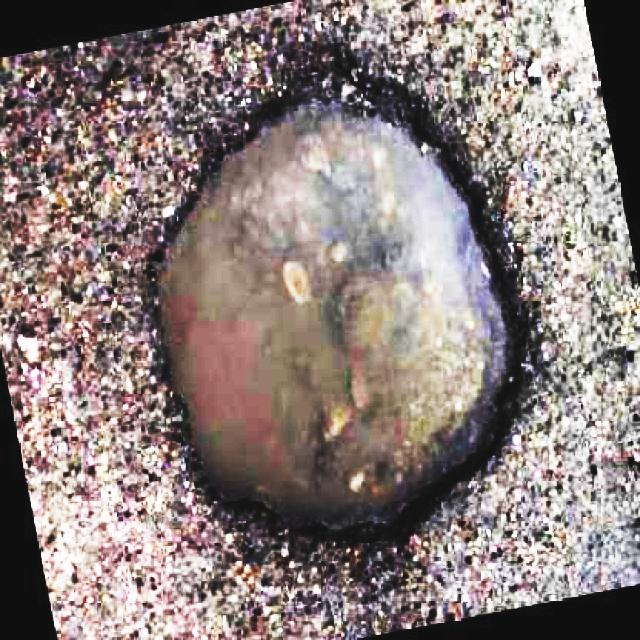pothole: (134, 54, 534, 555)
